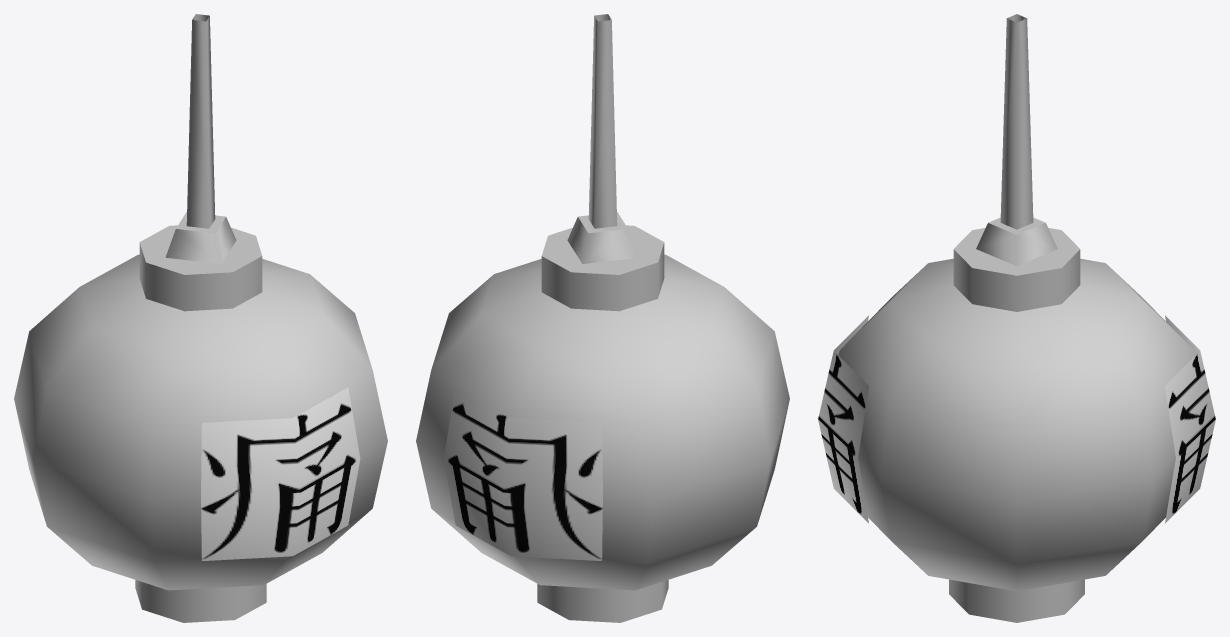
File: MESH_AMB12_Light2.fbx
The picture shows the model from 3 angles, left to right: view 1: azimuth 30°, elevation 25°; view 2: azimuth 150°, elevation 25°; view 3: azimuth 270°, elevation 25°; orthographic projection.
Visible parts, largest first — view 1: rond, symbole2, lampion_rond; view 2: rond, symbole2, lampion_rond; view 3: rond, lampion_rond, symbole2.
Boxes of the visible parts, x1=… form: rond: x1=14, y1=254, x2=387, y2=590; symbole2: x1=201, y1=387, x2=360, y2=560; lampion_rond: x1=135, y1=14, x2=266, y2=622; rond: x1=416, y1=254, x2=789, y2=590; symbole2: x1=443, y1=387, x2=602, y2=560; lampion_rond: x1=537, y1=14, x2=668, y2=622; rond: x1=838, y1=258, x2=1195, y2=591; lampion_rond: x1=949, y1=14, x2=1084, y2=622; symbole2: x1=818, y1=315, x2=1215, y2=523.
Size of the model in its own units: 9.67 by 15.91 by 9.96.
